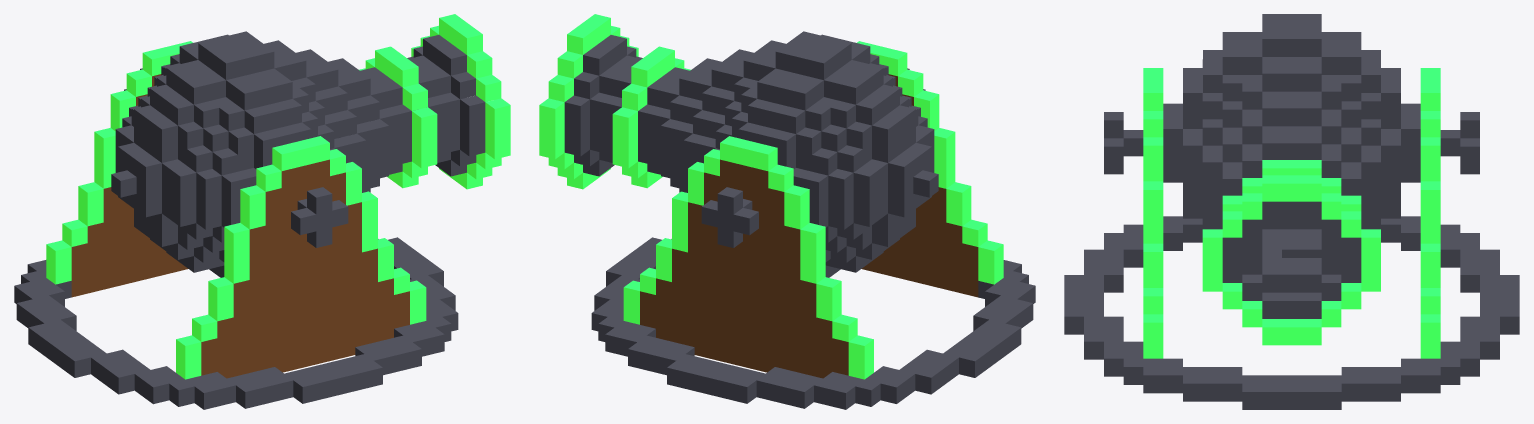
Rendered from cannon.fbx.
3 views of the same model, side by side, from view 1: azimuth 30°, elevation 25°; view 2: azimuth 150°, elevation 25°; view 3: azimuth 270°, elevation 25° (orthographic). The views are drawn at different scales.
Parts seen in each view (by area): view 1: pCube14, pCube811, pCube188, pCube210, pCube212, pCube226, pCube263, pCube271, pCube562, pCube586, pCube805, pCube808 (+80 smaller); view 2: pCube509, pCube792, pCube19, pCube215, pCube254, pCube514, pCube586, pCube701, pCube786, pCube795, pCube186, pCube214 (+78 smaller); view 3: pCube192, pCube226, pCube227, pCube230, pCube232, pCube236, pCube238, pCube433, pCube437, pCube438, pCube439, pCube440 (+107 smaller).
Part boxes in pixels (bbox=[...]): pCube14: bbox=[412, 107, 437, 134]; pCube811: bbox=[236, 381, 261, 408]; pCube188: bbox=[136, 156, 161, 183]; pCube210: bbox=[460, 95, 485, 122]; pCube212: bbox=[441, 48, 466, 75]; pCube226: bbox=[485, 98, 510, 125]; pCube263: bbox=[196, 169, 221, 195]; pCube271: bbox=[212, 148, 237, 175]; pCube562: bbox=[78, 182, 103, 209]; pCube586: bbox=[62, 219, 87, 246]; pCube805: bbox=[109, 367, 134, 394]; pCube808: bbox=[169, 379, 194, 406]; pCube509: bbox=[752, 144, 777, 171]; pCube792: bbox=[855, 379, 880, 406]; pCube19: bbox=[612, 107, 637, 134]; pCube215: bbox=[564, 95, 589, 122]; pCube254: bbox=[856, 98, 881, 125]; pCube514: bbox=[768, 164, 793, 191]; pCube586: bbox=[832, 314, 857, 341]; pCube701: bbox=[946, 182, 971, 209]; pCube786: bbox=[788, 381, 813, 408]; pCube795: bbox=[915, 367, 940, 394]; pCube186: bbox=[888, 156, 913, 183]; pCube214: bbox=[583, 48, 608, 75]; pCube192: bbox=[1301, 266, 1321, 292]; pCube226: bbox=[1202, 229, 1222, 255]; pCube227: bbox=[1222, 211, 1242, 237]; pCube230: bbox=[1301, 175, 1321, 201]; pCube232: bbox=[1321, 193, 1341, 219]; pCube236: bbox=[1341, 211, 1361, 237]; pCube238: bbox=[1242, 193, 1262, 219]; pCube433: bbox=[1301, 65, 1321, 91]; pCube437: bbox=[1202, 119, 1222, 145]; pCube438: bbox=[1222, 101, 1242, 127]; pCube439: bbox=[1242, 83, 1262, 109]; pCube440: bbox=[1321, 83, 1341, 109].
Bounding box in the file's own units: 26 × 16 × 23.
